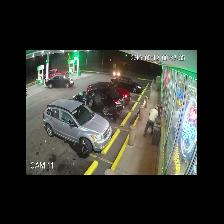person: (144, 106, 158, 134), (70, 142, 88, 158), (108, 106, 121, 122)
